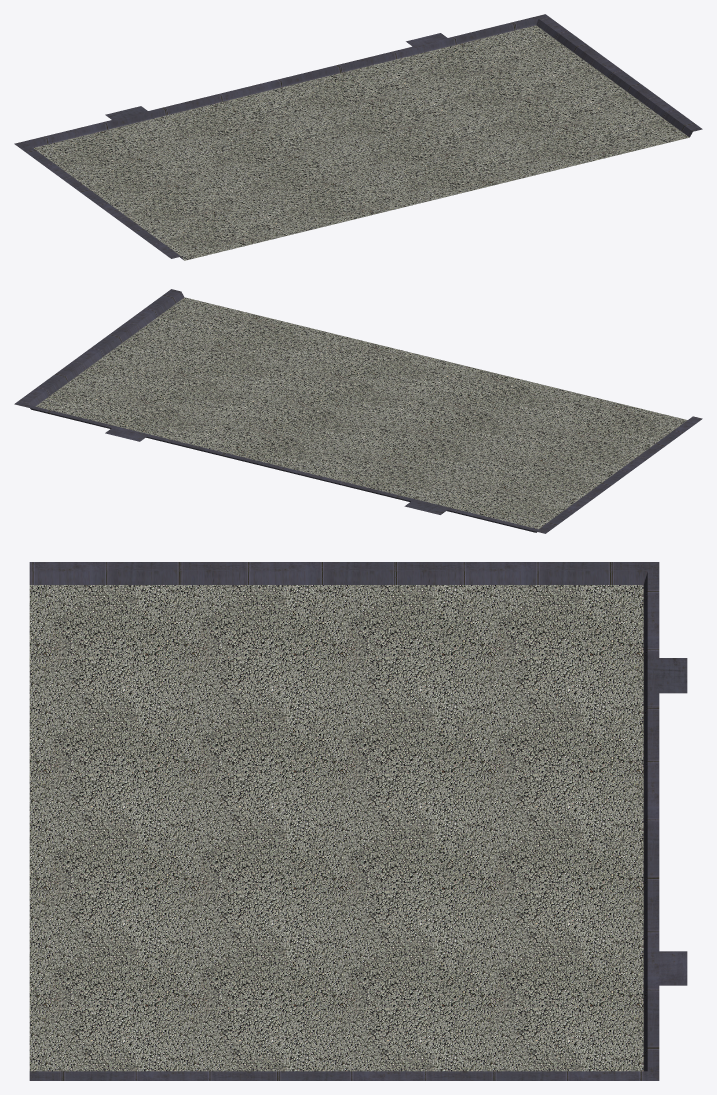
Rendered from Building_08_Roof.fbx.
3 views of the same model, one above another, from view 1: azimuth 30°, elevation 25°; view 2: azimuth 150°, elevation 25°; view 3: azimuth 270°, elevation 25° (orthographic). The views are drawn at different scales.
Visible parts, largest first — view 1: Building_08_Roof; view 2: Building_08_Roof; view 3: Building_08_Roof.
Part boxes in pixels (x1,y1,x2,y2): Building_08_Roof: (14,14,702,260); Building_08_Roof: (14,289,702,533); Building_08_Roof: (29,562,687,1080).
Size of the model in its own units: 1395 by 12.67 by 747.
